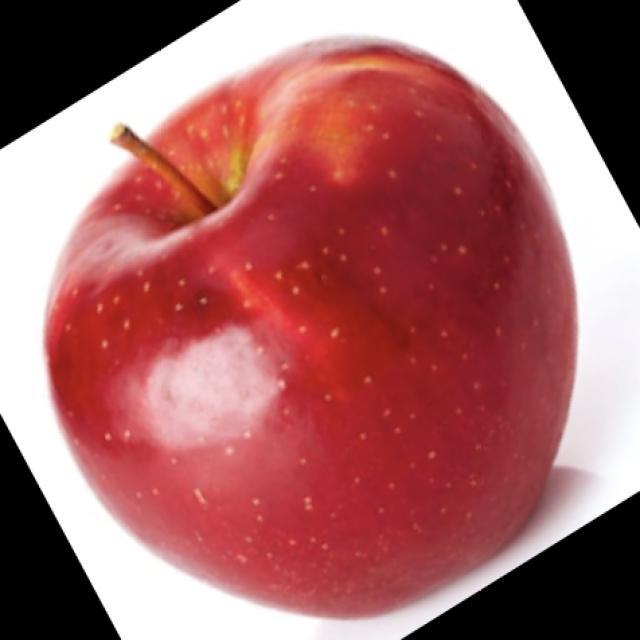Fresh Apple: (91, 70, 576, 608)
